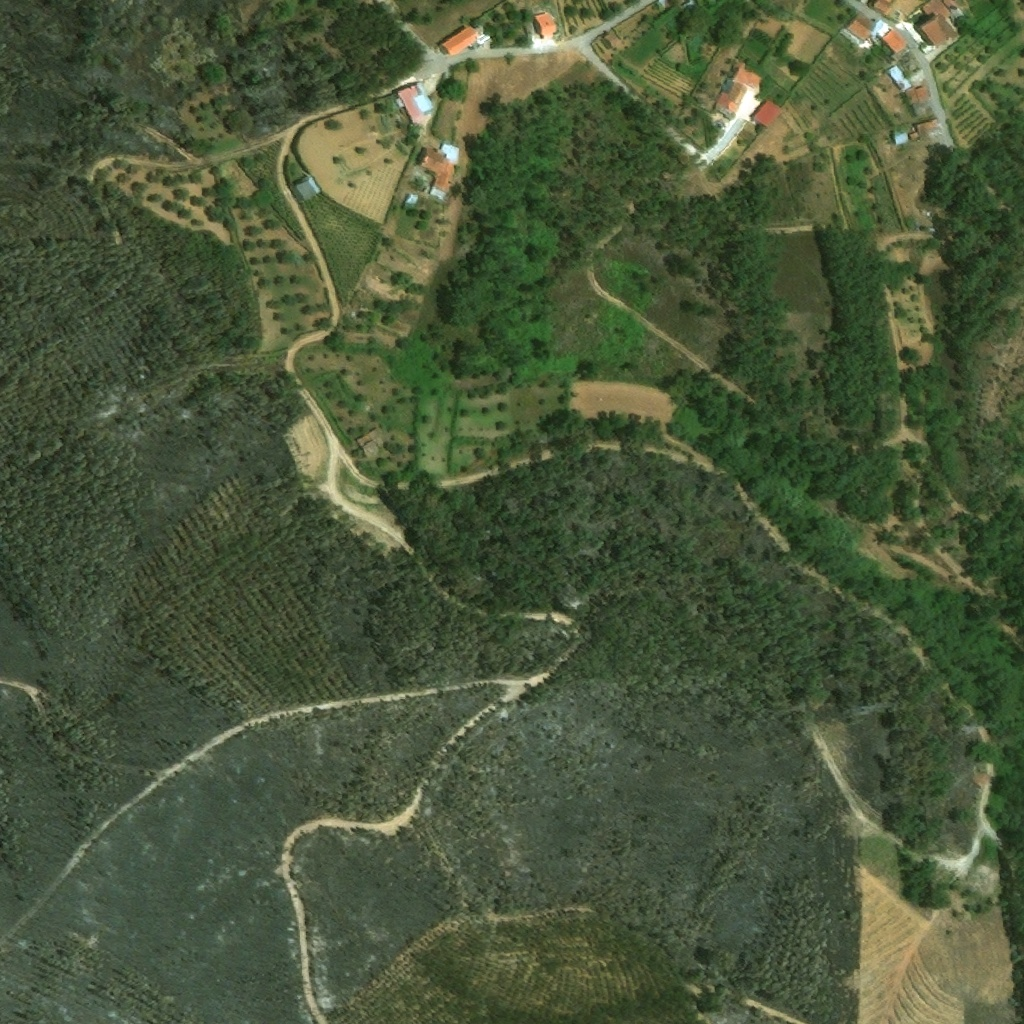0 no-damage: (418, 142, 459, 197), (913, 0, 960, 47), (838, 10, 892, 47), (713, 77, 758, 120), (396, 81, 434, 119), (437, 25, 479, 55), (726, 59, 760, 92), (751, 99, 783, 128), (289, 175, 321, 201), (903, 86, 930, 116), (880, 28, 908, 54), (352, 430, 377, 458), (908, 118, 938, 141), (886, 64, 911, 90), (602, 30, 622, 49), (537, 20, 558, 36), (892, 131, 908, 145), (405, 193, 419, 204)
3 destroyed: (972, 761, 994, 787)
4 un-classified: (869, 0, 893, 16), (654, 0, 682, 10)
